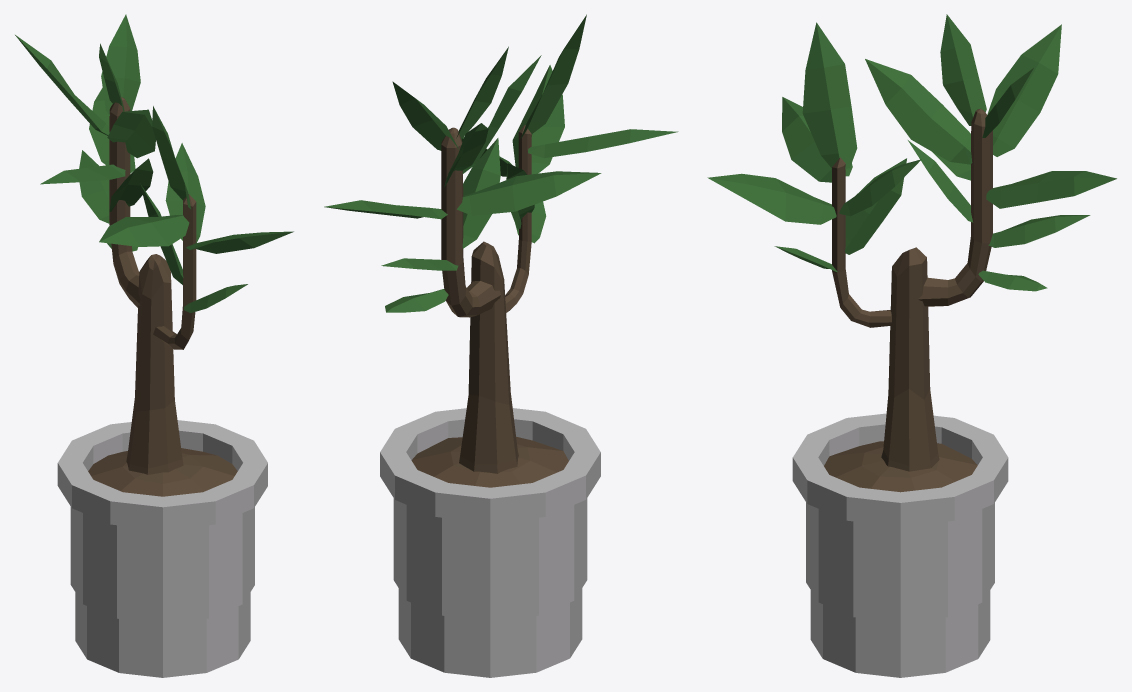
File: SM_Plant_02.glb
3 renders of one model, left to right at view 1: azimuth 30°, elevation 25°; view 2: azimuth 150°, elevation 25°; view 3: azimuth 270°, elevation 25°, orthographic. The views are drawn at different scales.
Visible parts, largest first — view 1: SM_Plant_02; view 2: SM_Plant_02; view 3: SM_Plant_02.
Part boxes in pixels (x1,y1,x2,y2): SM_Plant_02: (15,14,293,677); SM_Plant_02: (324,14,678,677); SM_Plant_02: (707,14,1116,677).
Size of the model in its own units: 0.62 by 1.65 by 1.01.
1 material, 1 textured.
